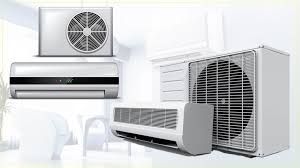AC: (109, 103, 211, 155), (12, 62, 119, 98)
